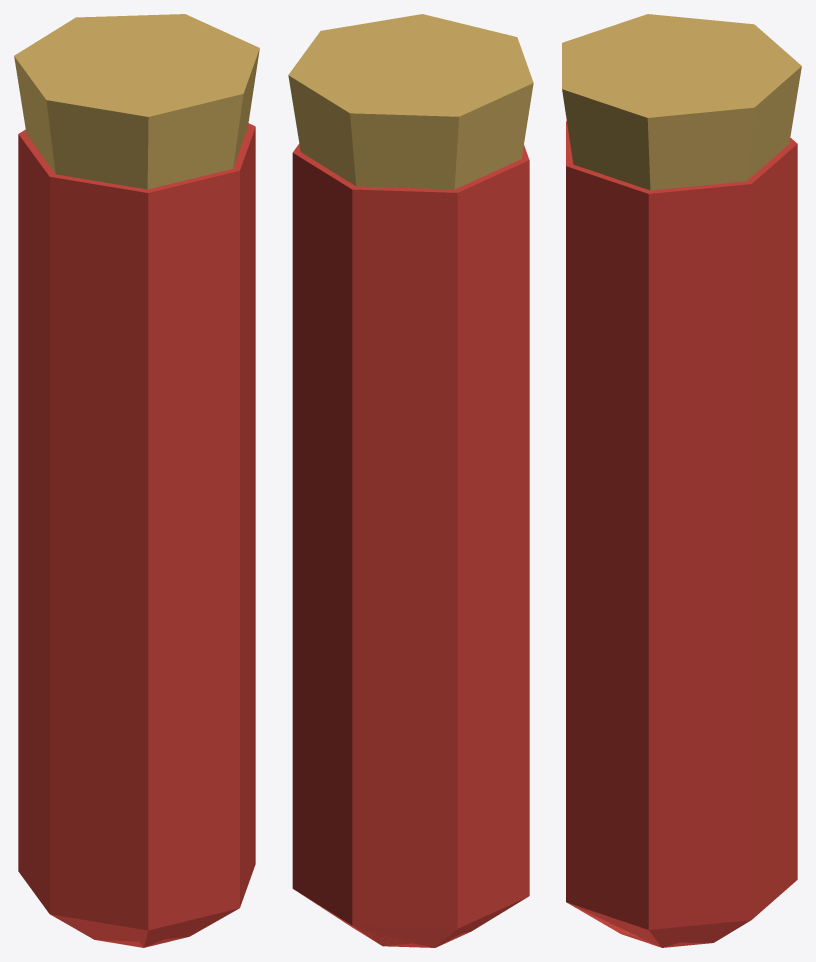
The model's file is potion_strength.fbx.
3 renders of one model, left to right at view 1: azimuth 30°, elevation 25°; view 2: azimuth 150°, elevation 25°; view 3: azimuth 270°, elevation 25°, orthographic.
Visible parts, largest first — view 1: Plane, Cylinder; view 2: Plane, Cylinder; view 3: Plane, Cylinder.
Boxes of the visible parts, x1,y1,x2,y2 form: Plane: [18, 123, 255, 947]; Cylinder: [14, 14, 259, 189]; Plane: [292, 144, 529, 947]; Cylinder: [288, 14, 533, 189]; Plane: [566, 121, 797, 947]; Cylinder: [562, 14, 801, 190].
Bounding box in the file's own units: 60.6 × 238 × 59.08.
